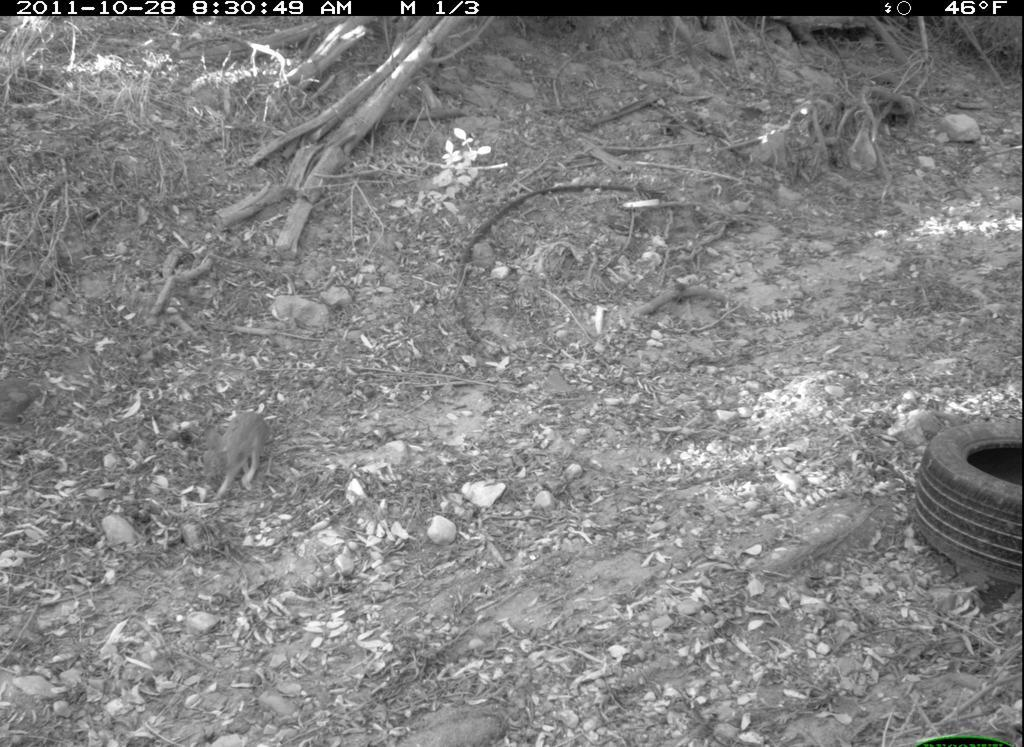rabbit: (204, 406, 280, 496)
